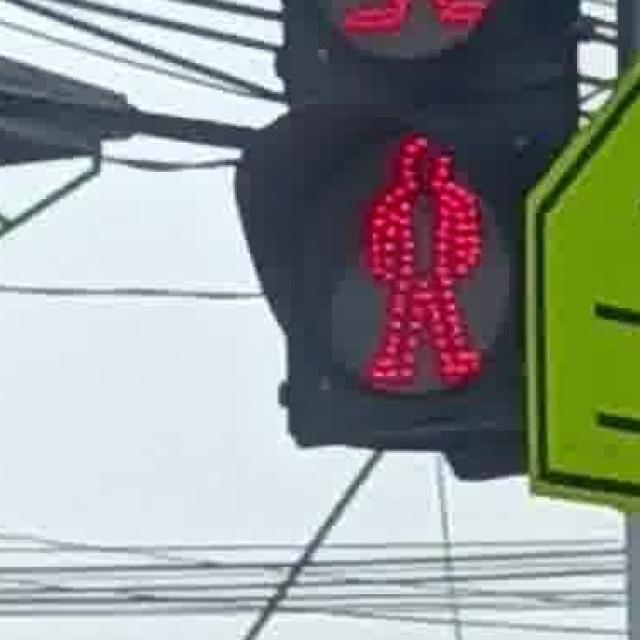red-crossing: (343, 114, 512, 402)
